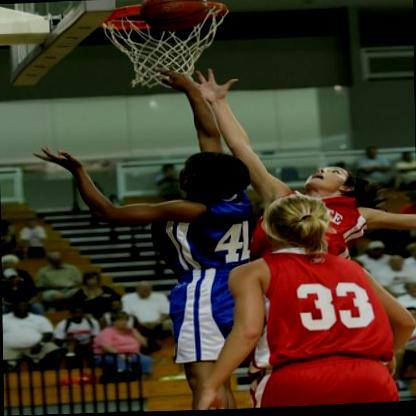basketball: (139, 0, 208, 34)
